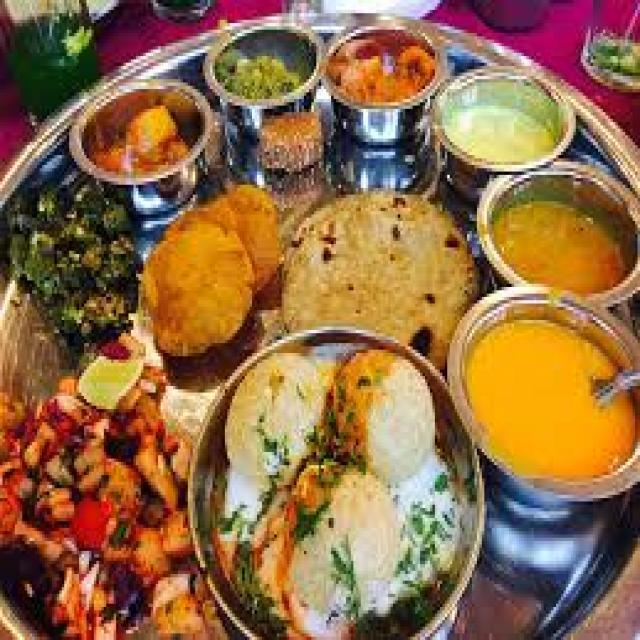dal: (460, 305, 631, 508), (470, 179, 636, 304), (433, 70, 574, 175)
roti: (273, 185, 473, 355)
veg-fry: (75, 71, 206, 202), (330, 19, 444, 120)
